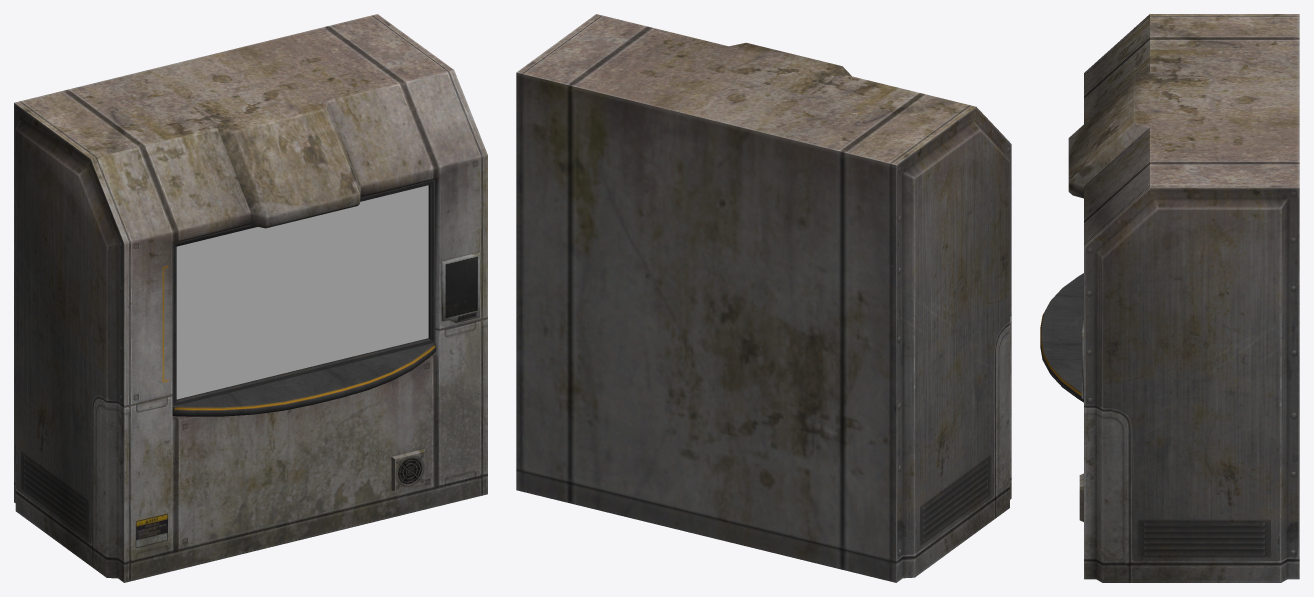
The model's file is incubator.dae.
3 renders of one model, left to right at view 1: azimuth 30°, elevation 25°; view 2: azimuth 150°, elevation 25°; view 3: azimuth 270°, elevation 25°, orthographic. The views are drawn at different scales.
Visible parts, largest first — view 1: low, glass; view 2: low; view 3: low.
Part boxes in pixels (x1,y1,x2,y2): low: [14, 14, 487, 582]; glass: [176, 185, 428, 399]; low: [516, 14, 1011, 582]; low: [1040, 14, 1299, 582].
Size of the model in its own units: 2.6 by 2.62 by 1.58.
